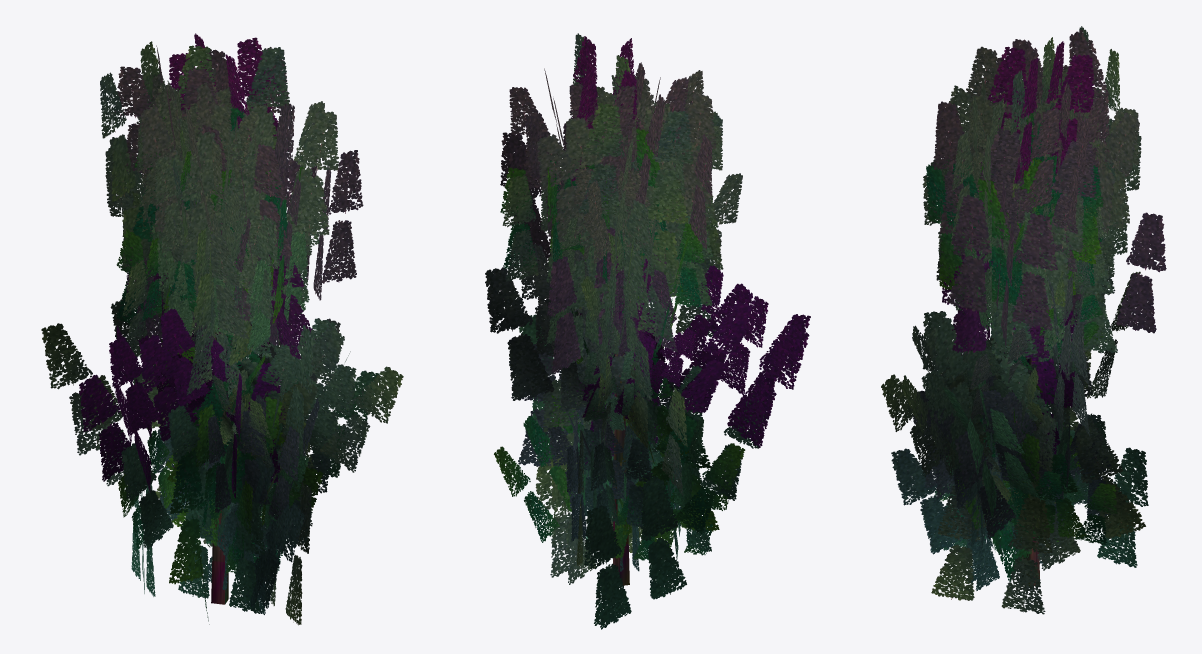
File: nat_cypress_c_LOD2.glb
The picture shows the model from 3 angles, left to right: view 1: azimuth 30°, elevation 25°; view 2: azimuth 150°, elevation 25°; view 3: azimuth 270°, elevation 25°; orthographic projection. The views are drawn at different scales.
Parts seen in each view (by area): view 1: nat_cypress_c_LOD2; view 2: nat_cypress_c_LOD2; view 3: nat_cypress_c_LOD2.
Part boxes in pixels (x1=…): nat_cypress_c_LOD2: x1=41, y1=33, x2=403, y2=625; nat_cypress_c_LOD2: x1=485, y1=33, x2=810, y2=629; nat_cypress_c_LOD2: x1=881, y1=26, x2=1166, y2=614.
Bounding box in the file's own units: 8.61 × 13.88 × 7.21.
2 materials, 2 textured.
